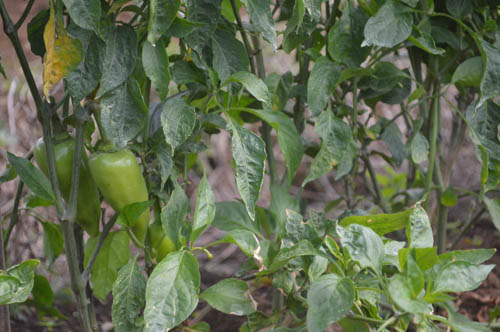ChiliPepper: (32, 138, 99, 230), (89, 150, 151, 238)
